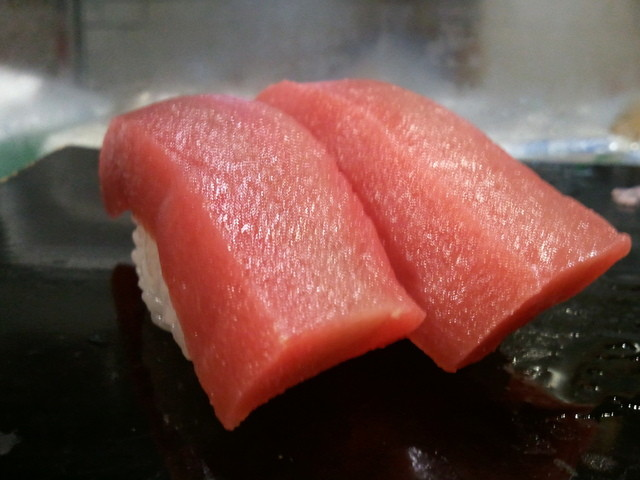medium_fatty_tuna: (265, 76, 631, 369), (96, 90, 402, 423)
